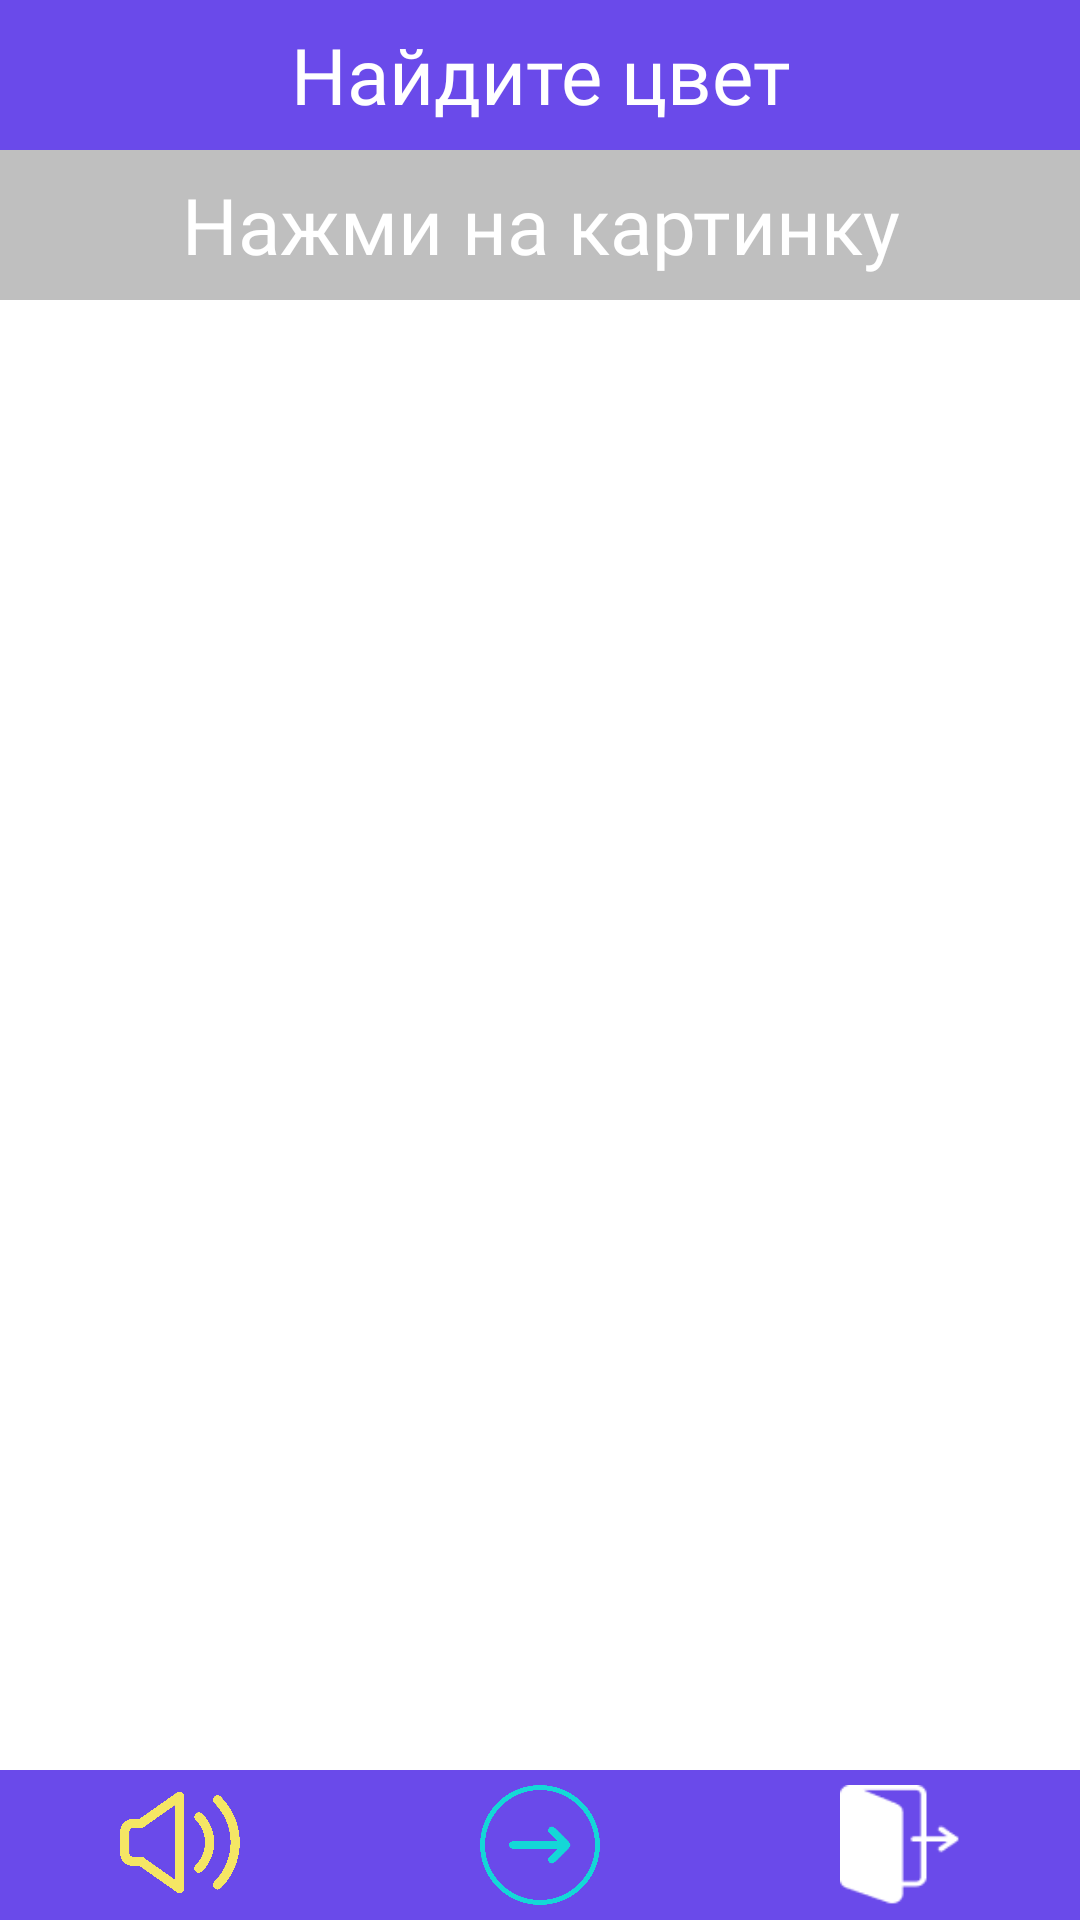

Where icons sit on this 1080 x 1920 app screen, as region(x1, y1, x2, y2):
exit: region(840, 1785, 959, 1904)
next: region(480, 1785, 600, 1905)
voice: region(120, 1792, 240, 1893)
